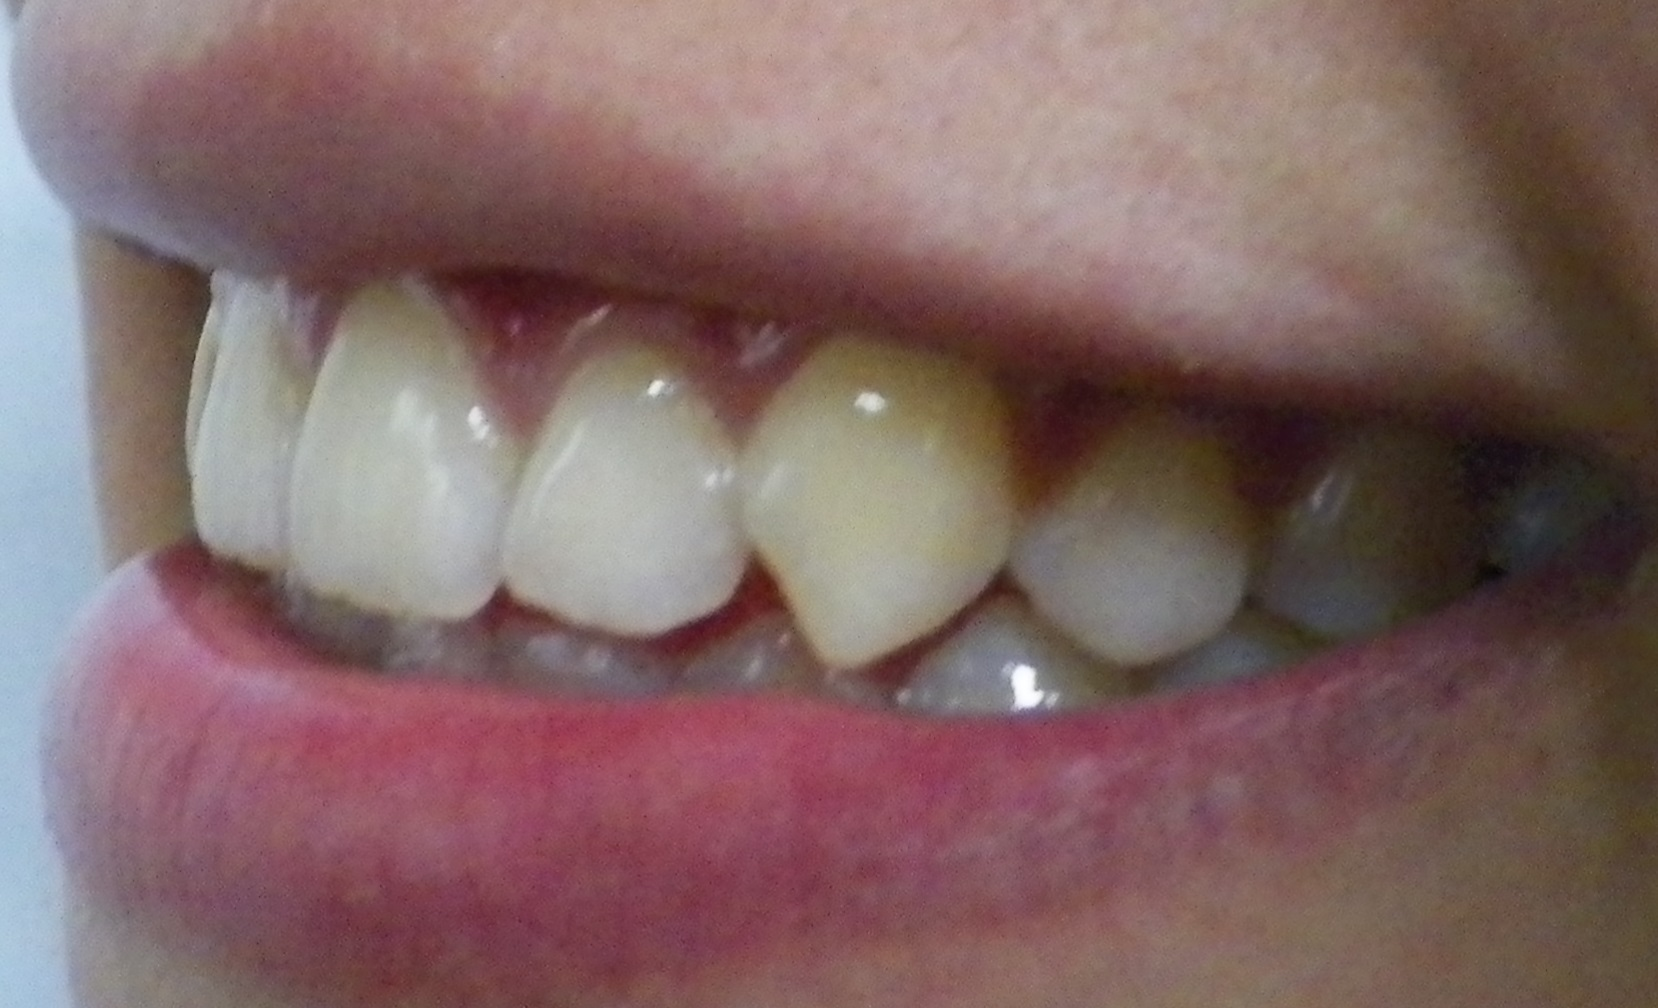boca: (182, 256, 1574, 691)
